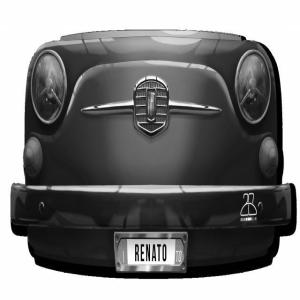Plate: (114, 232, 188, 273)
